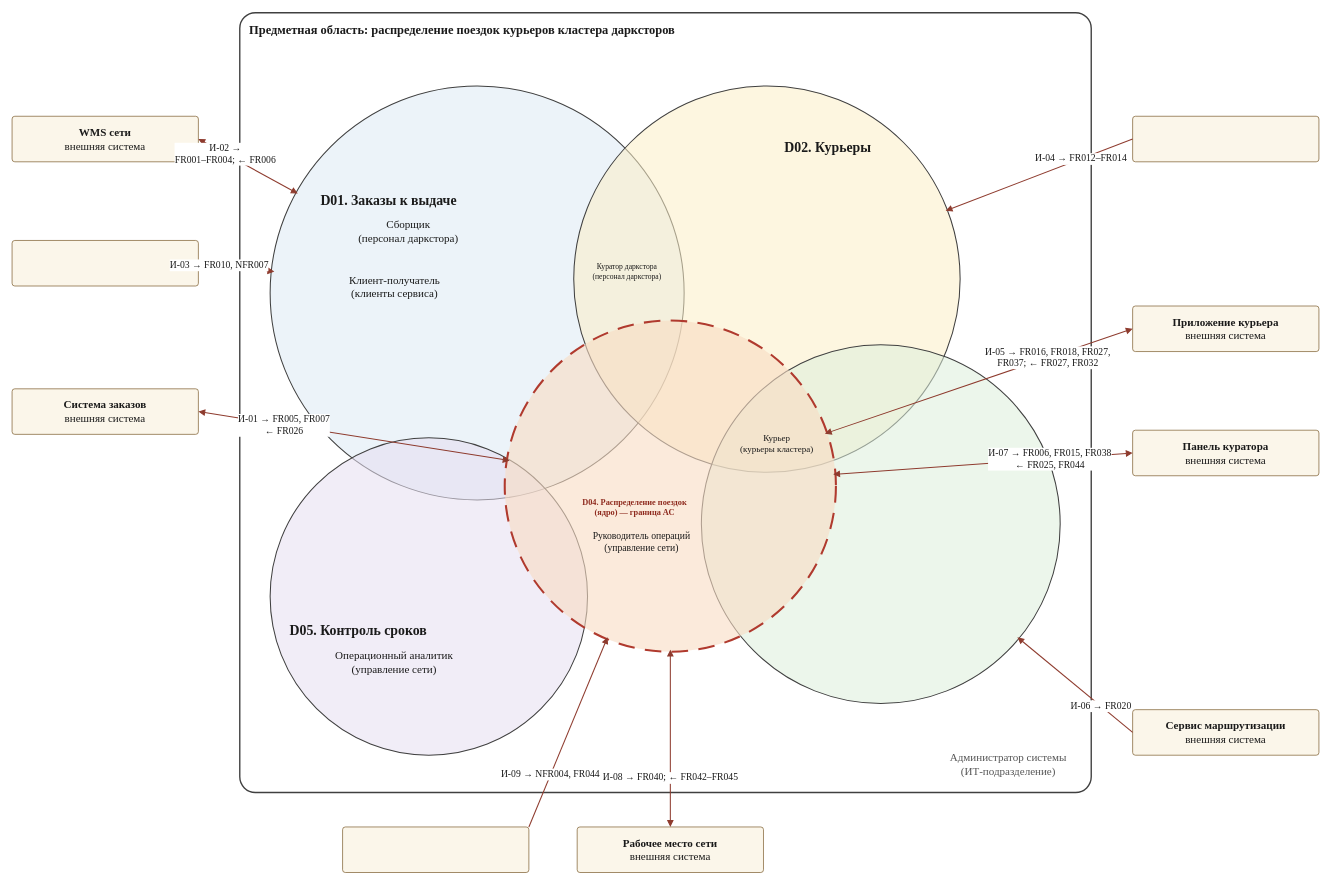
Image size: 1331x885. Some labels were removed from this diagram. The centre of each missing label's shape, as x and y in pixels:
D03. Местоположение и время в пути: (x=880, y=524)
Кадровая система внешняя система: (x=1225, y=139)
Сервер учётных записей сети внешняя система: (x=435, y=849)
Справочник подзон внешняя система: (x=104, y=263)
